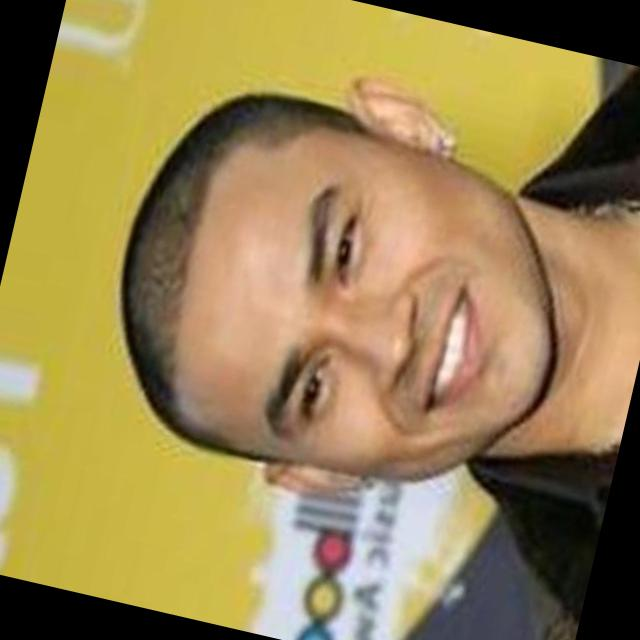bareface: (96, 63, 589, 524)
